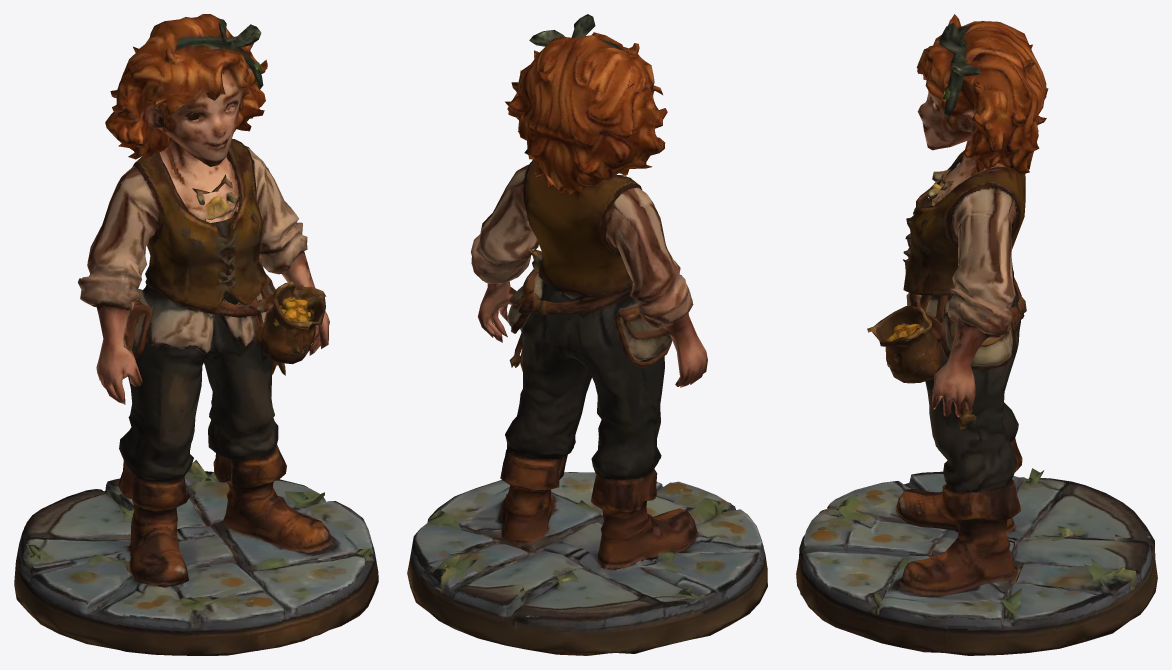
Rendered from hero-tansy.glb.
The picture shows the model from 3 angles, left to right: view 1: azimuth 30°, elevation 25°; view 2: azimuth 150°, elevation 25°; view 3: azimuth 270°, elevation 25°; orthographic projection. The views are drawn at different scales.
Visible parts, largest first — view 1: world; view 2: world; view 3: world.
Boxes of the visible parts, left/top/right/bottom form: world: left=14, top=14, right=378, bottom=655; world: left=407, top=14, right=767, bottom=655; world: left=796, top=14, right=1157, bottom=655.
Size of the model in its own units: 0.4776 by 0.814 by 0.4719.
Materials: 1 (1 with a texture image).
